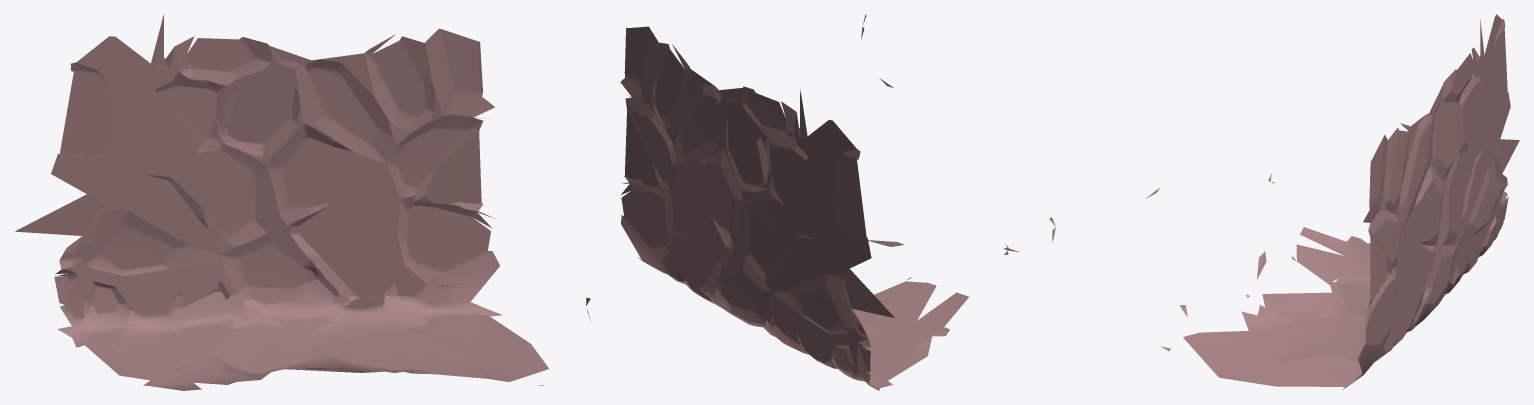
File: canyon.fbx_PolyShape__3__007LODs.fbx
The picture shows the model from 3 angles, left to right: view 1: azimuth 30°, elevation 25°; view 2: azimuth 150°, elevation 25°; view 3: azimuth 270°, elevation 25°; orthographic projection. The views are drawn at different scales.
Visible parts, largest first — view 1: PolyShape (3).007_LOD0; view 2: PolyShape (3).007_LOD0; view 3: PolyShape (3).007_LOD0.
Boxes of the visible parts, bbox=[...] form: PolyShape (3).007_LOD0: bbox=[15, 14, 590, 390]; PolyShape (3).007_LOD0: bbox=[620, 14, 1019, 390]; PolyShape (3).007_LOD0: bbox=[1049, 14, 1519, 389].
Size of what is drawn, in the model's own units: 4792 by 3578 by 5752.
